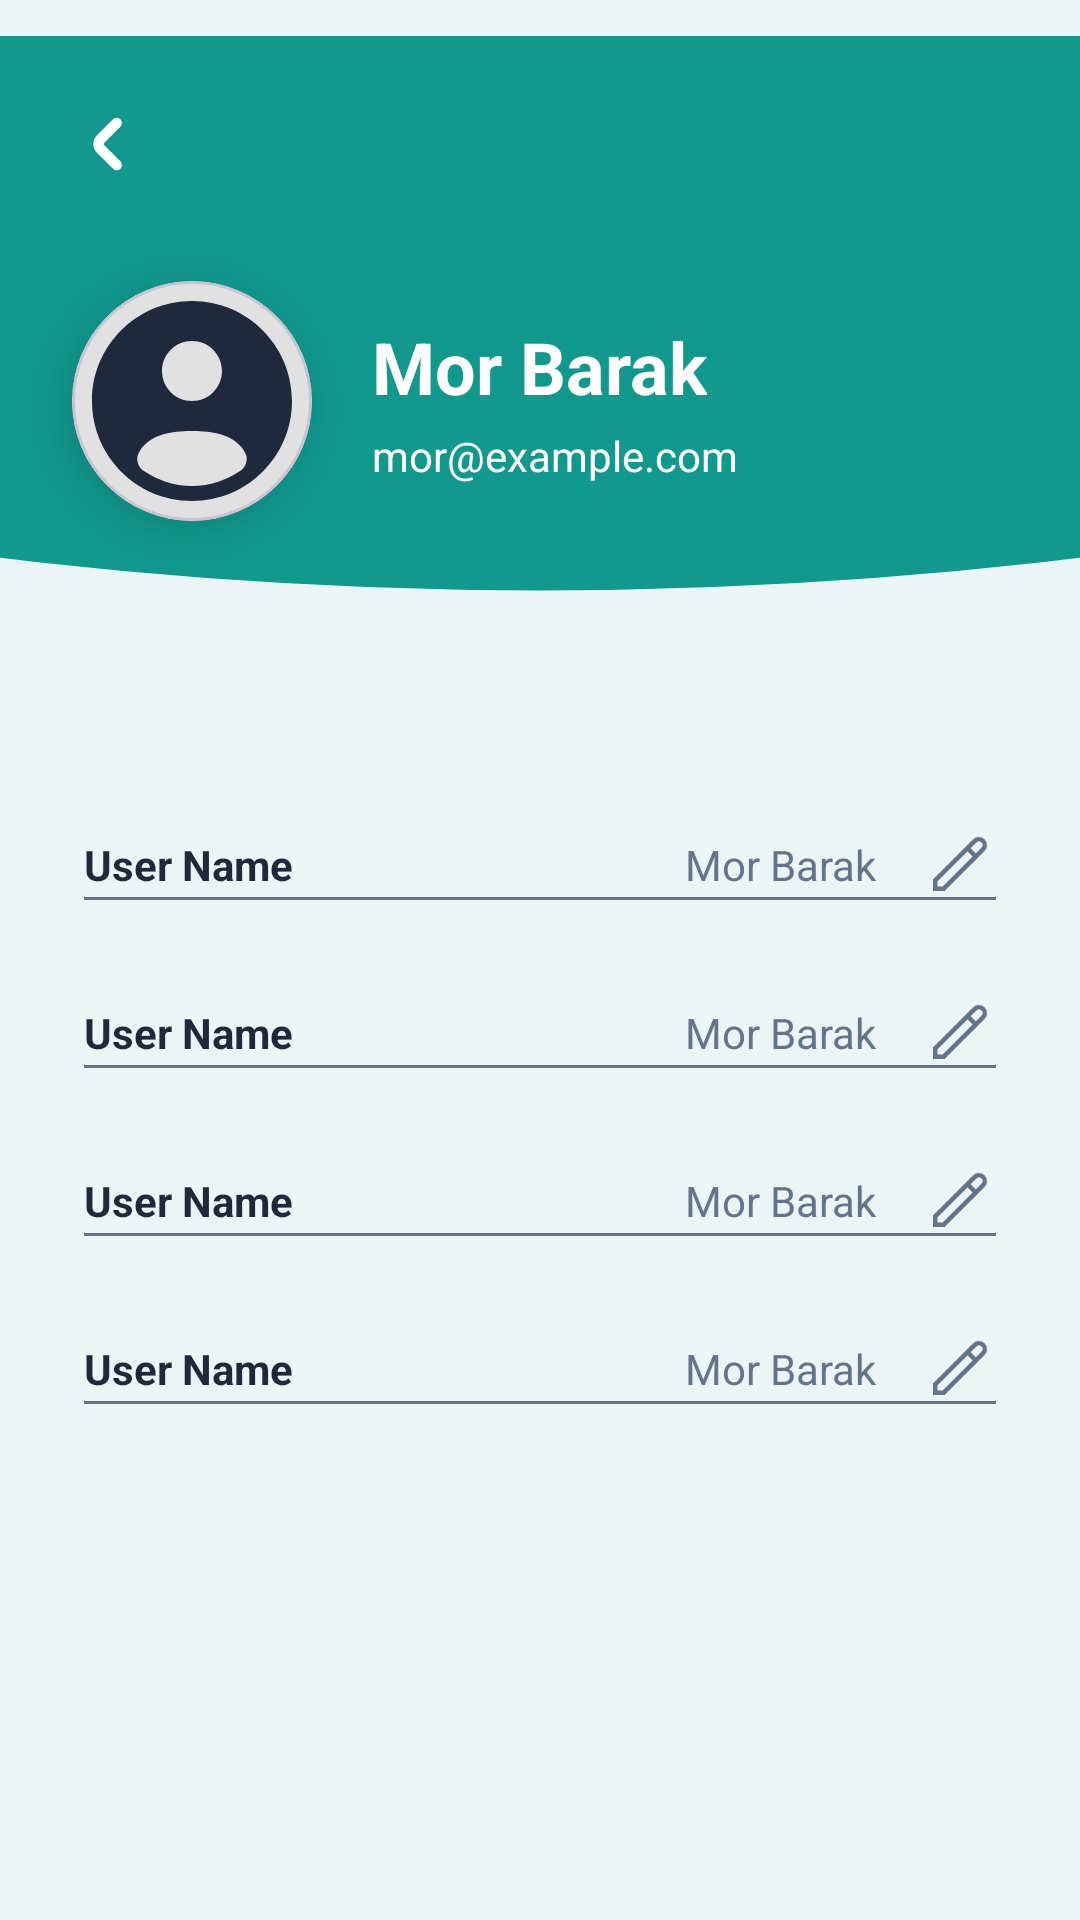

Locate icon controls on the screen. Image size 1080×1920, boxes as (x1, y1, x2, y2).
back: (93, 117, 122, 171)
pencil: (933, 837, 987, 891), (933, 1005, 987, 1059), (933, 1173, 987, 1227), (933, 1341, 987, 1395)
user: (72, 281, 312, 521)
